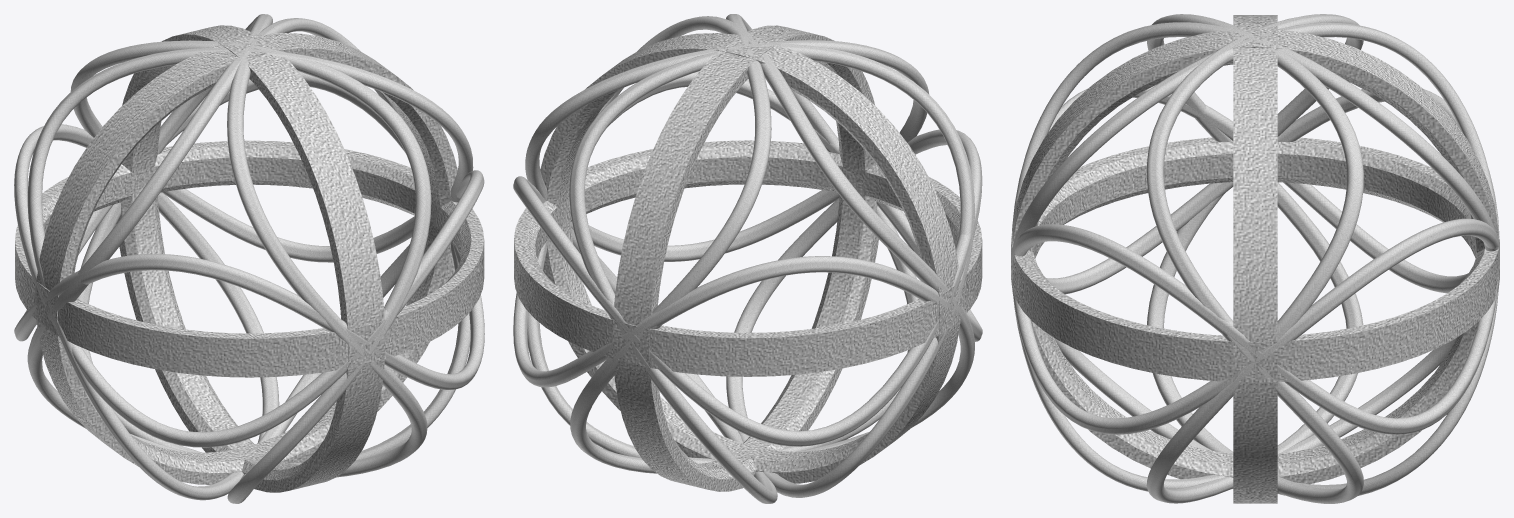
File: CompleteRing+.obj
The picture shows the model from 3 angles, left to right: view 1: azimuth 30°, elevation 25°; view 2: azimuth 150°, elevation 25°; view 3: azimuth 270°, elevation 25°; orthographic projection. The views are drawn at different scales.
Visible parts, largest first — view 1: Solid1, Solid1:2, Solid1:1, Solid3:2, Solid3:1, Solid3:4, Solid3:3, Solid3:5, Solid3; view 2: Solid1, Solid1:2, Solid1:1, Solid3:3, Solid3, Solid3:5, Solid3:4, Solid3:1, Solid3:2; view 3: Solid1, Solid1:2, Solid1:1, Solid3:5, Solid3:4, Solid3:1, Solid3:3, Solid3, Solid3:2.
Part boxes in pixels (bbox=[...]): Solid1: bbox=[15, 140, 484, 377]; Solid1:2: bbox=[116, 25, 385, 492]; Solid1:1: bbox=[35, 33, 457, 484]; Solid3:2: bbox=[70, 40, 431, 503]; Solid3:1: bbox=[14, 124, 484, 447]; Solid3:4: bbox=[27, 47, 473, 500]; Solid3:3: bbox=[77, 14, 427, 477]; Solid3:5: bbox=[27, 18, 470, 464]; Solid3: bbox=[14, 71, 484, 389]; Solid1: bbox=[514, 140, 982, 376]; Solid1:2: bbox=[612, 25, 878, 491]; Solid1:1: bbox=[540, 33, 961, 483]; Solid3:3: bbox=[569, 40, 929, 503]; Solid3: bbox=[513, 129, 982, 446]; Solid3:5: bbox=[525, 44, 974, 497]; Solid3:4: bbox=[527, 16, 974, 463]; Solid3:1: bbox=[513, 71, 982, 387]; Solid3:2: bbox=[570, 14, 918, 473]; Solid1: bbox=[1011, 137, 1499, 382]; Solid1:2: bbox=[1011, 28, 1499, 488]; Solid1:1: bbox=[1233, 15, 1277, 503]; Solid3:5: bbox=[1146, 14, 1363, 503]; Solid3:4: bbox=[1146, 14, 1363, 503]; Solid3:1: bbox=[1011, 89, 1499, 434]; Solid3:3: bbox=[1012, 22, 1499, 491]; Solid3: bbox=[1011, 85, 1499, 434]; Solid3:2: bbox=[1011, 22, 1499, 495].
Size of the model in its own units: 110 by 110 by 110.
Materials: 2 (2 with a texture image).
